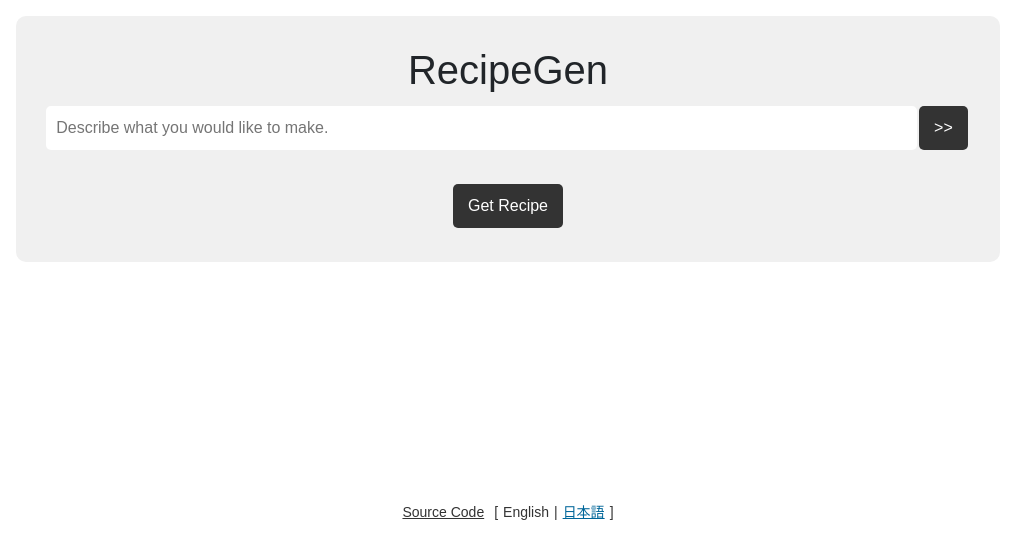
it: App › changes language when language link is clicked
The width and height of the screenshot is (1017, 533).
Click the button "日本語": (584, 512) [563,502,605,523]
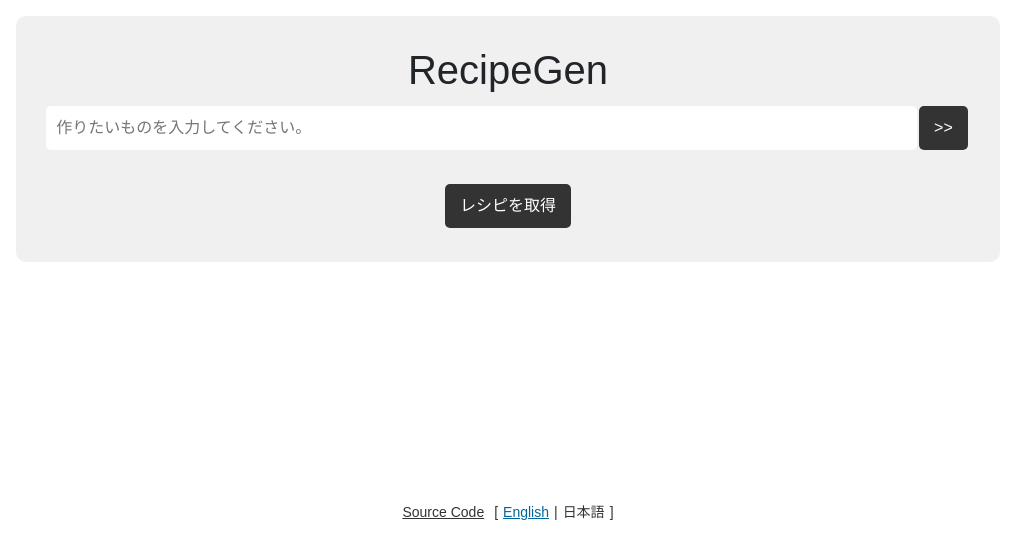
Expected: the field with placeholder "作りたいものを入力してください。" is shown, [46,106,917,150]
